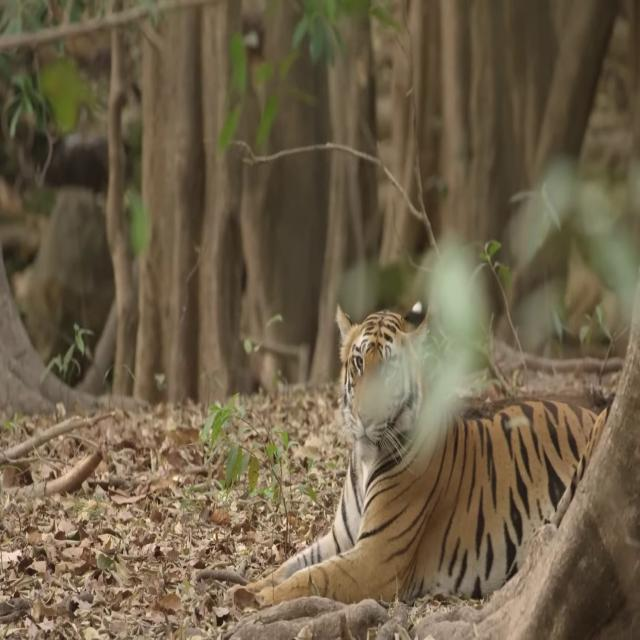tiger: (226, 292, 609, 605)
